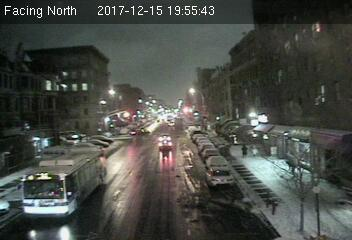bus: (18, 147, 104, 219)
car: (204, 168, 235, 186), (207, 156, 227, 169), (158, 141, 172, 148), (158, 134, 171, 140)
